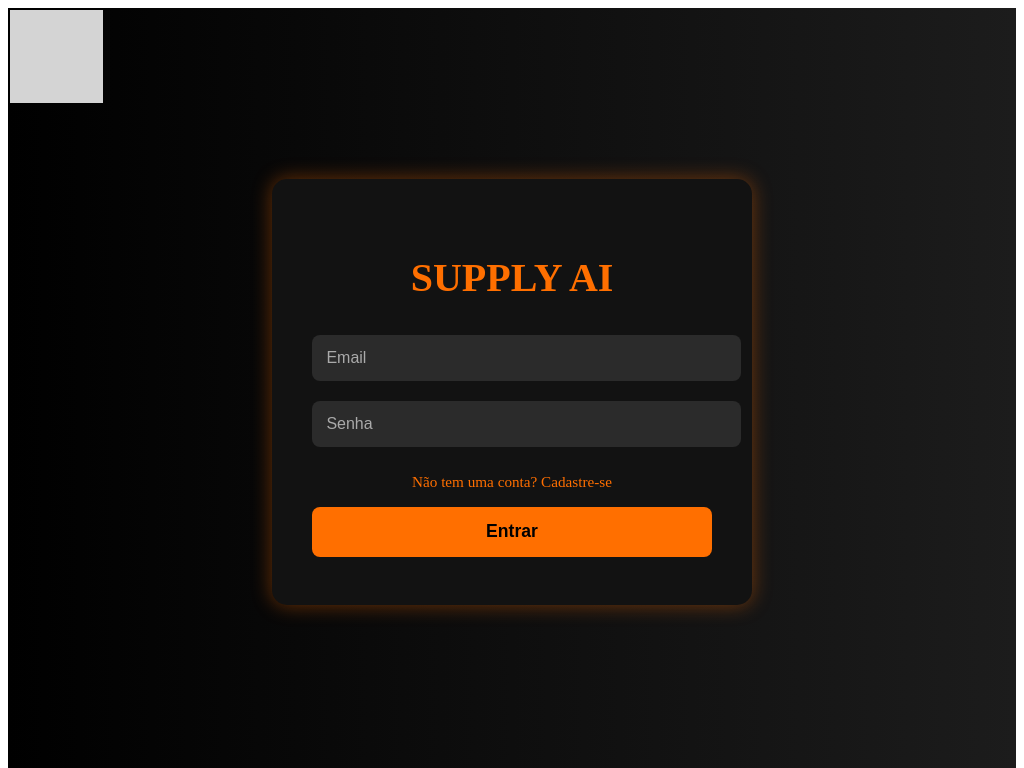
Test: Login.vue › login falho - email incorreto
This screenshot has width=1024, height=768.
Type "inexistente@example.com" into the field with placeholder "Email" at (526,358), box [312,335,741,381]
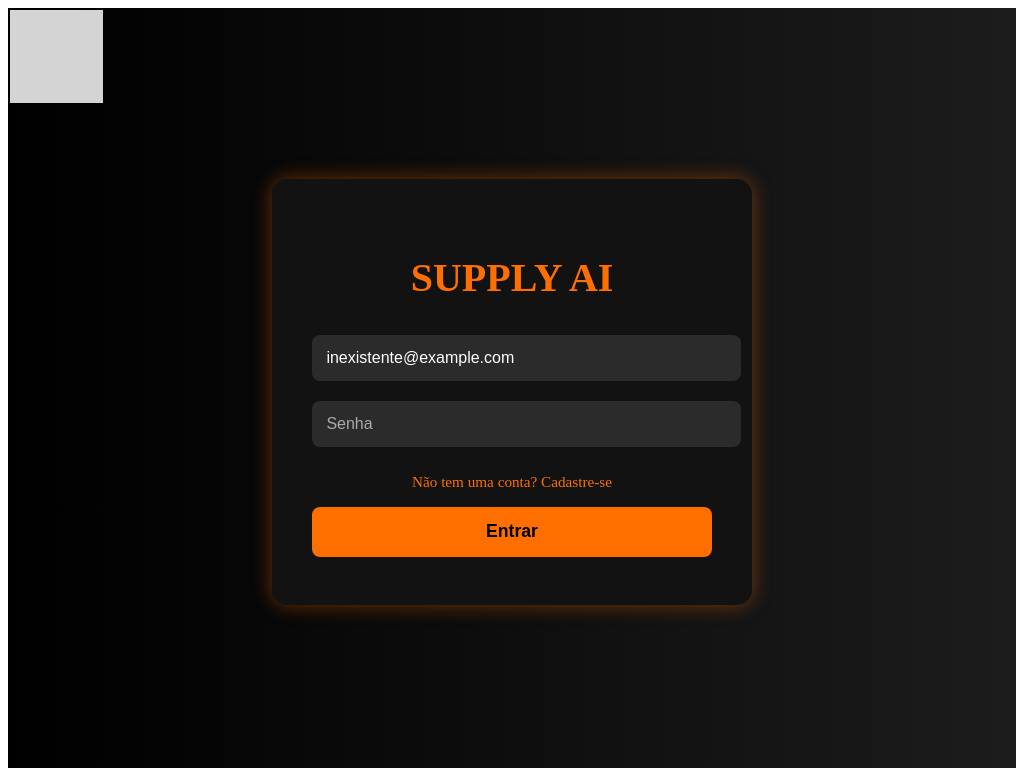
Type "senha123" into the password field with placeholder "Senha" at (526,424), box [312,401,741,447]
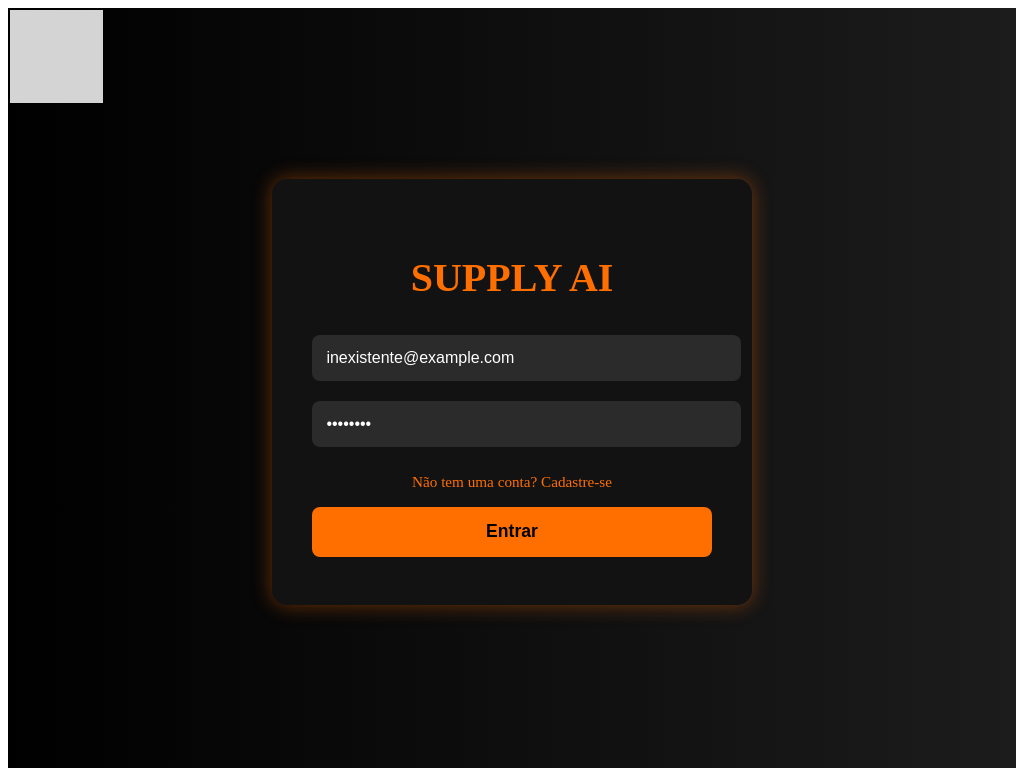
Submit the form, box [312,325,712,557]
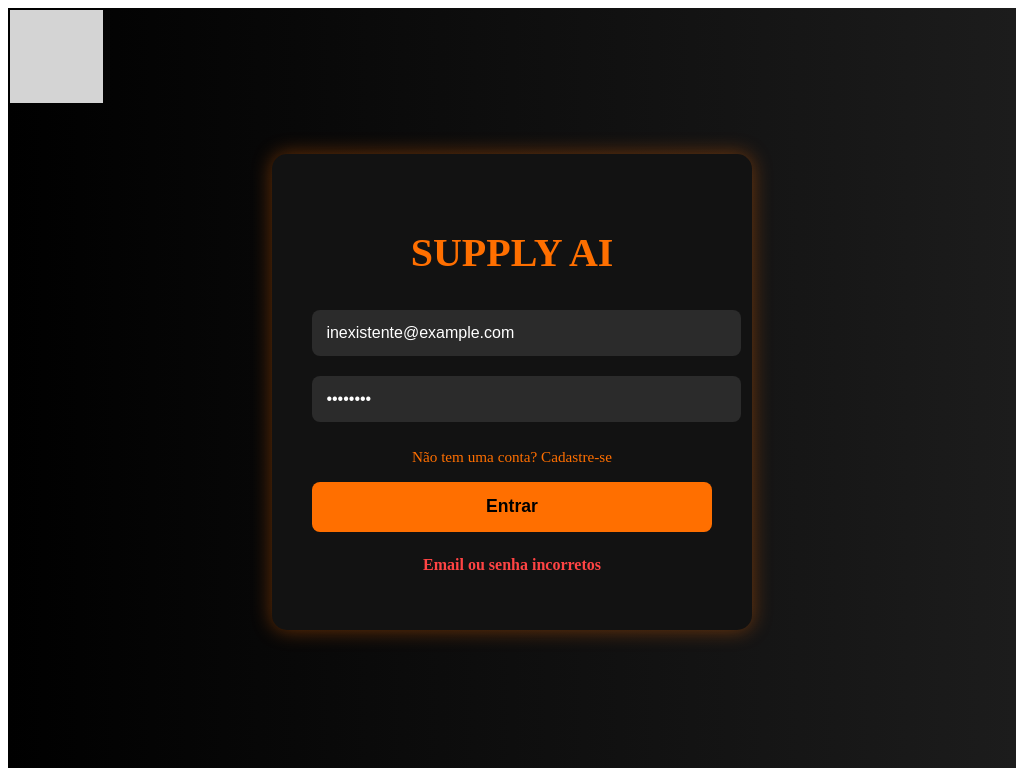
Result: the text "Email ou senha incorretos" is shown at [423,556,601,573]
